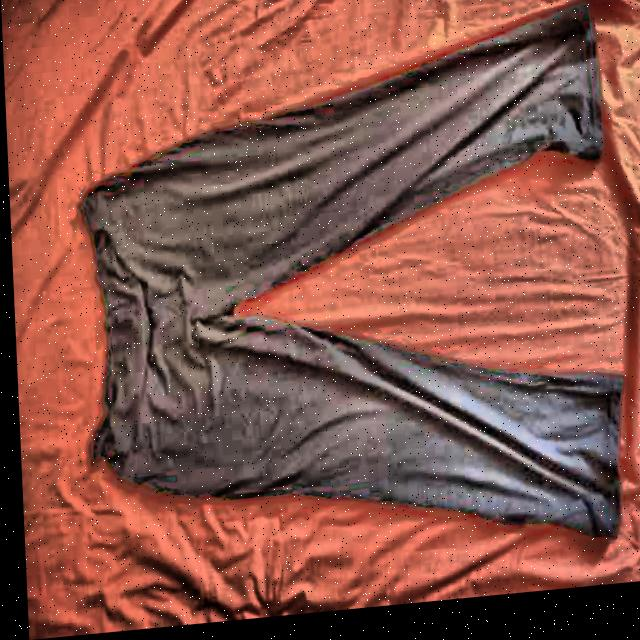clothes: (70, 4, 622, 594)
